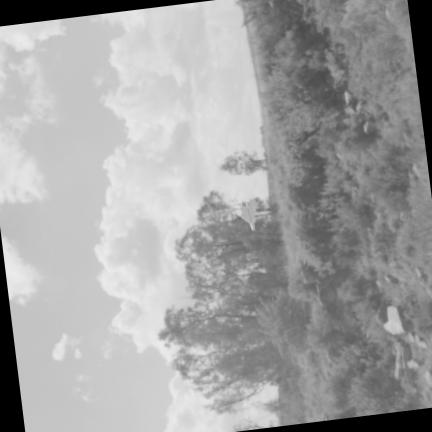Shahed: (235, 196, 256, 229)
